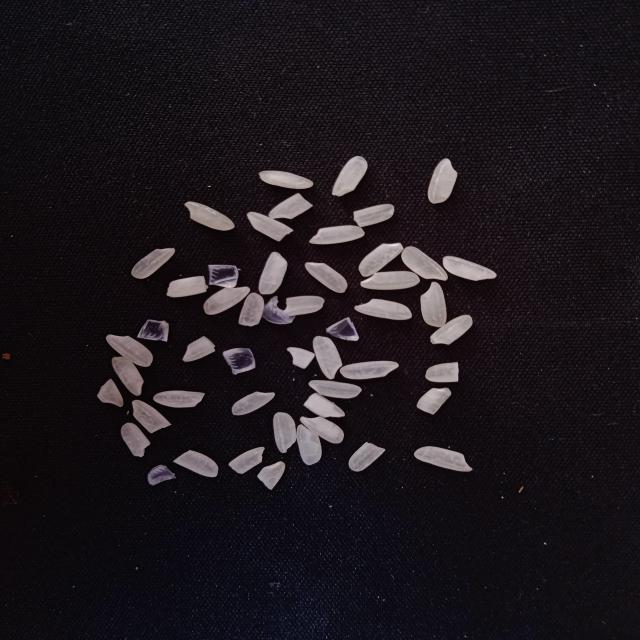Broken: (246, 212, 292, 242), (132, 400, 171, 434), (174, 450, 219, 477), (268, 193, 312, 220), (120, 422, 151, 458), (348, 442, 385, 472), (304, 392, 346, 417), (229, 446, 265, 474), (416, 388, 452, 416), (353, 203, 394, 227), (166, 275, 208, 297), (238, 293, 265, 327), (154, 390, 207, 407), (183, 336, 216, 362), (284, 296, 325, 316), (258, 462, 286, 490), (97, 379, 124, 407), (425, 363, 459, 383), (287, 346, 315, 369)
Full: (401, 246, 449, 281), (358, 242, 404, 277), (106, 334, 154, 367), (184, 201, 236, 231), (413, 446, 473, 472), (332, 156, 368, 197), (443, 255, 497, 282), (429, 158, 459, 204), (131, 248, 175, 279), (203, 286, 250, 315), (111, 356, 145, 396), (305, 262, 348, 293), (430, 314, 473, 344), (353, 299, 411, 321), (313, 336, 342, 380), (299, 416, 344, 444), (259, 252, 288, 295), (420, 282, 446, 328), (338, 359, 400, 378), (360, 271, 420, 290), (309, 226, 365, 246), (296, 424, 322, 465), (231, 391, 275, 415), (259, 170, 314, 189), (308, 379, 362, 398), (274, 412, 297, 454)
